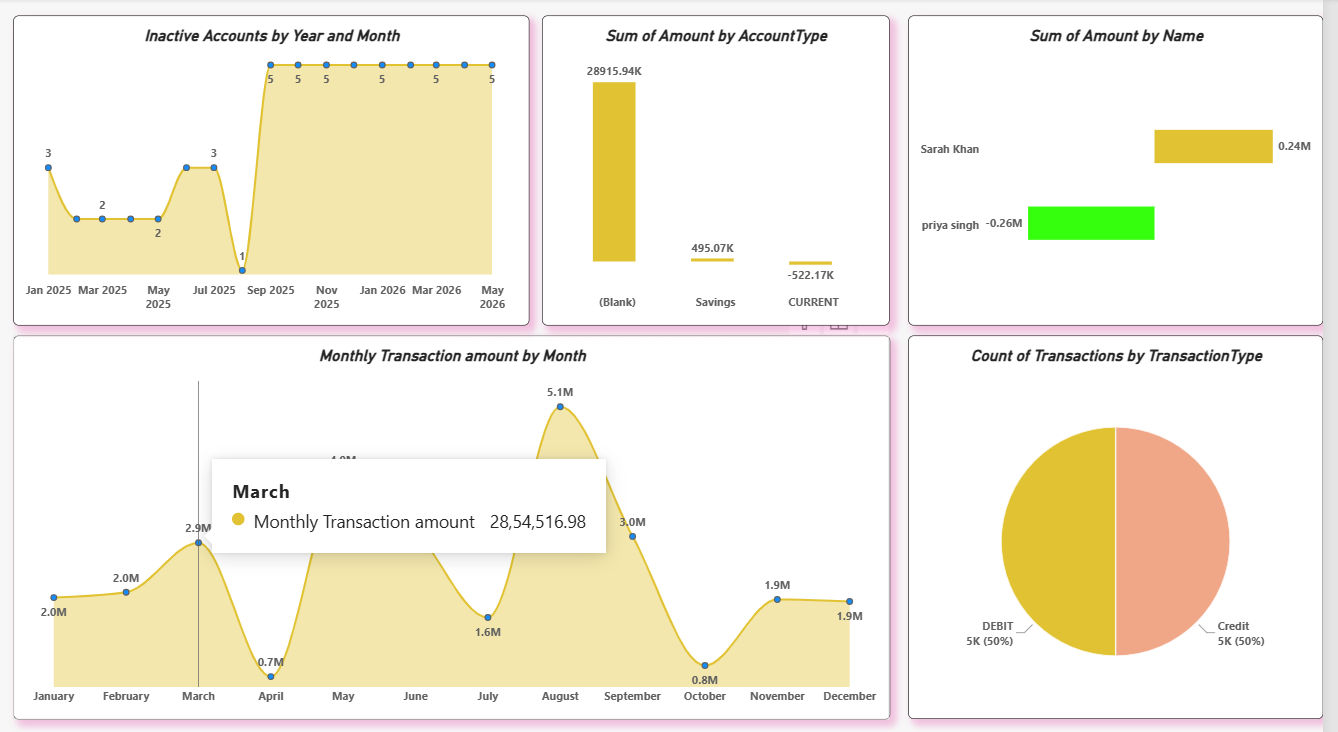

What the dashboard file says about the page in this screenshot:
{"tool":"powerbi","page":{"name":"Page 1","canvas":[1920,1080],"ordinal":0},"visuals":[{"type":"pieChart","fields":{"Category":["CombinedBankingDataset.TransactionType"],"Y":["Measures (2).Count of Transactions"]},"box":[1319.4,487.8,586.6,555.7],"z":0},{"type":"areaChart","fields":{"Category":["CombinedBankingDataset.TransactionDate.Variation.Date Hierarchy.Month"],"Y":["Measures (2).Monthly Transaction amount"]},"box":[22.6,487.8,1270,555.7],"z":1000},{"type":"barChart","fields":{"Category":["CombinedBankingDataset.Name"],"Y":["Sum(CombinedBankingDataset.Amount)"]},"box":[1319.2,25.3,600.8,427.1],"z":2000},{"type":"clusteredColumnChart","fields":{"Category":["CombinedBankingDataset.AccountType"],"Y":["Sum(CombinedBankingDataset.Amount)"]},"box":[789,25.3,503.1,427.1],"z":3000},{"type":"lineChart","fields":{"Category":["CombinedBankingDataset.TransactionDate.Variation.Date Hierarchy.Year","CombinedBankingDataset.TransactionDate.Variation.Date Hierarchy.Month"],"Y":["Measures (2).Inactive Accounts"]},"box":[23.5,25.3,747.4,427.1],"z":4000}]}

Visuals, with their boxes in screenshot pixels (x1, y1, x2, y2), scaled from the page's 1920x1080 canvas onto the 1338x732 screenshot:
pieChart - CombinedBankingDataset.TransactionType x Measures (2).Count of Transactions: {"left": 919, "top": 331, "right": 1328, "bottom": 707}
areaChart - CombinedBankingDataset.TransactionDate.Variation.Date Hierarchy.Month x Measures (2).Monthly Transaction amount: {"left": 16, "top": 331, "right": 901, "bottom": 707}
barChart - CombinedBankingDataset.Name x Sum(CombinedBankingDataset.Amount): {"left": 919, "top": 17, "right": 1337, "bottom": 307}
clusteredColumnChart - CombinedBankingDataset.AccountType x Sum(CombinedBankingDataset.Amount): {"left": 550, "top": 17, "right": 900, "bottom": 307}
lineChart - CombinedBankingDataset.TransactionDate.Variation.Date Hierarchy.Year x CombinedBankingDataset.TransactionDate.Variation.Date Hierarchy.Month: {"left": 16, "top": 17, "right": 537, "bottom": 307}
